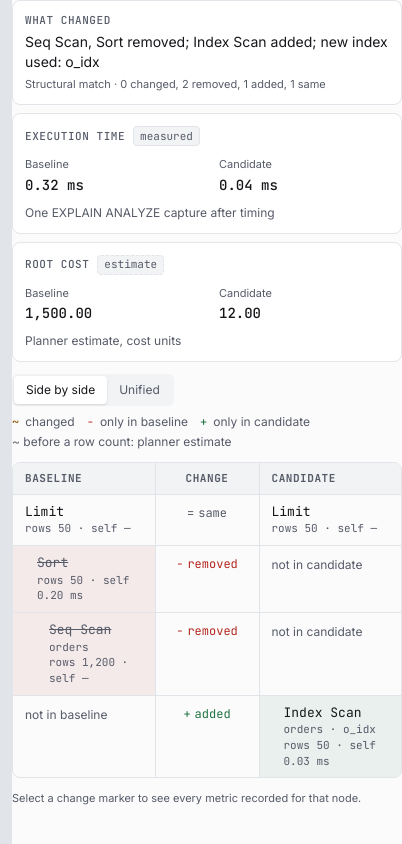
node metrics are stacked cards for narrow panels, with every value and its source
Click the button with aria-label "Sort, removed: show recorded metrics" at point(207, 564), box [170,552,244,576]
(page scrolled)
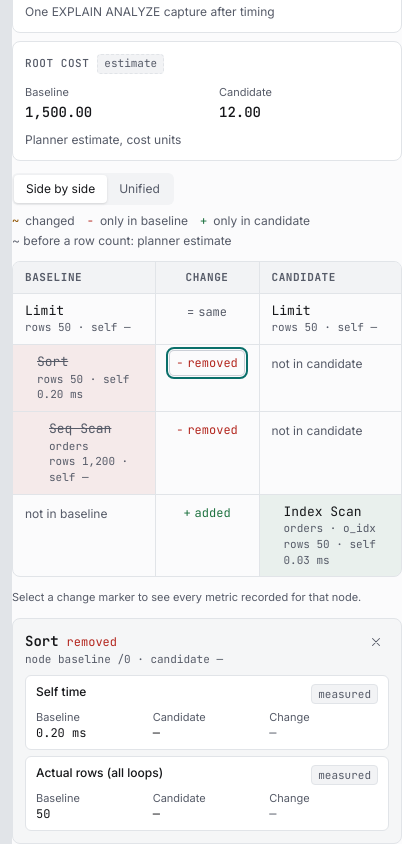
Expected: the text "Baseline" below "Self time" is shown, [36,710,80,724]
Expected: the text "0.20 ms" is shown, [36,725,86,741]
Expected: the text "Candidate" below "Self time" is shown, [153,710,206,724]
